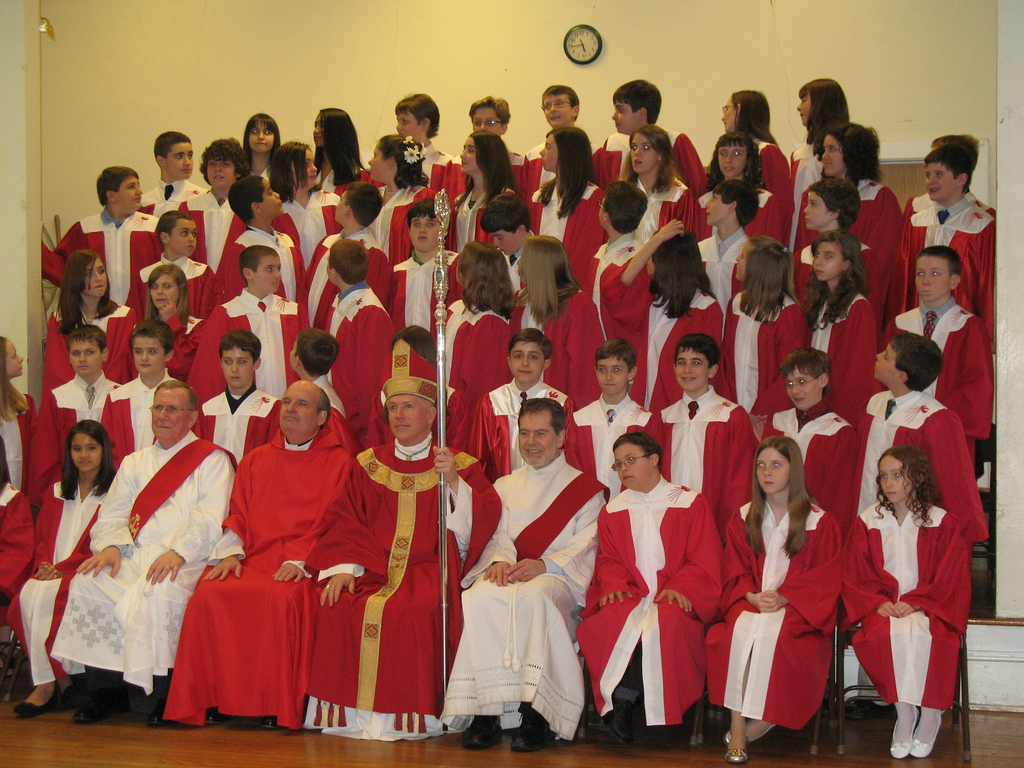Person: (0, 76, 998, 764)
